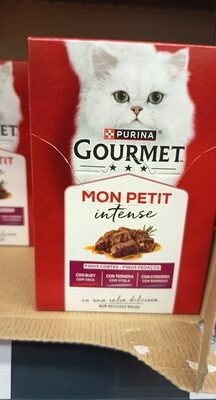alimento gato carne: (11, 20, 205, 380)
